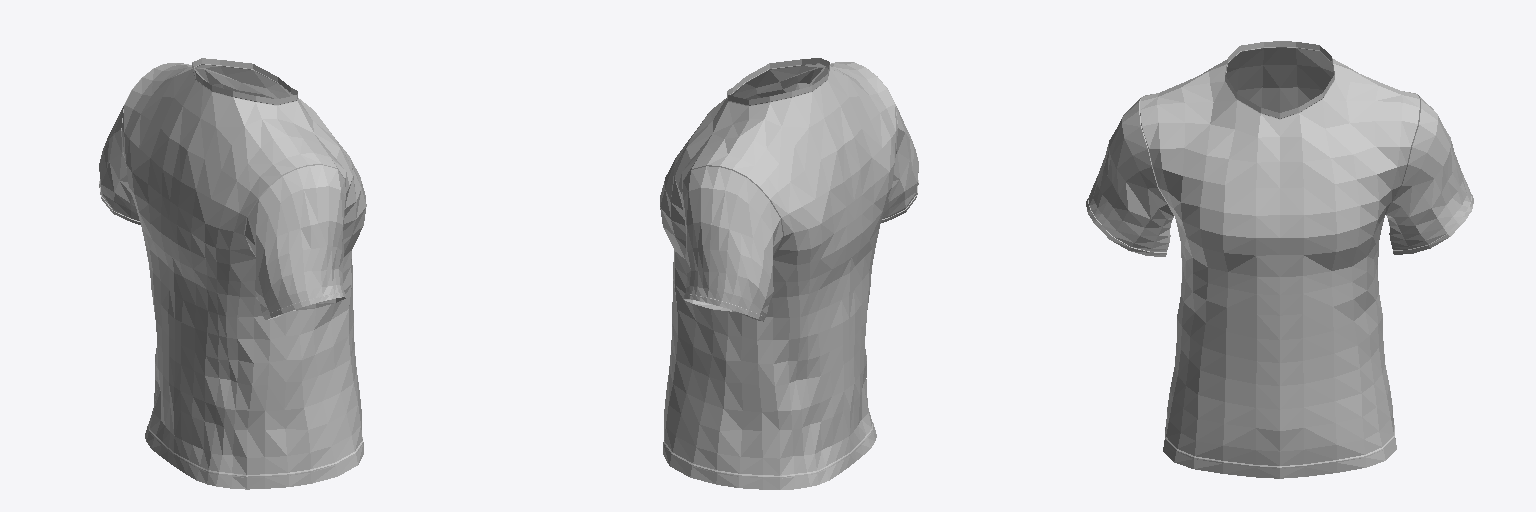
Rendered from Tshirt.obj.
3 views of the same model, side by side, from view 1: azimuth 30°, elevation 25°; view 2: azimuth 150°, elevation 25°; view 3: azimuth 270°, elevation 25° (orthographic).
Parts seen in each view (by area): view 1: Tshirt_Mesh; view 2: Tshirt_Mesh; view 3: Tshirt_Mesh.
Part boxes in pixels (x1,y1,x2,y2): Tshirt_Mesh: (99, 58, 366, 489); Tshirt_Mesh: (660, 58, 918, 489); Tshirt_Mesh: (1086, 41, 1473, 478).
Size of the model in its own units: 1.33 by 2.72 by 2.52.